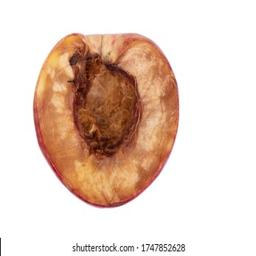Peach Rotten: (33, 31, 182, 208)
